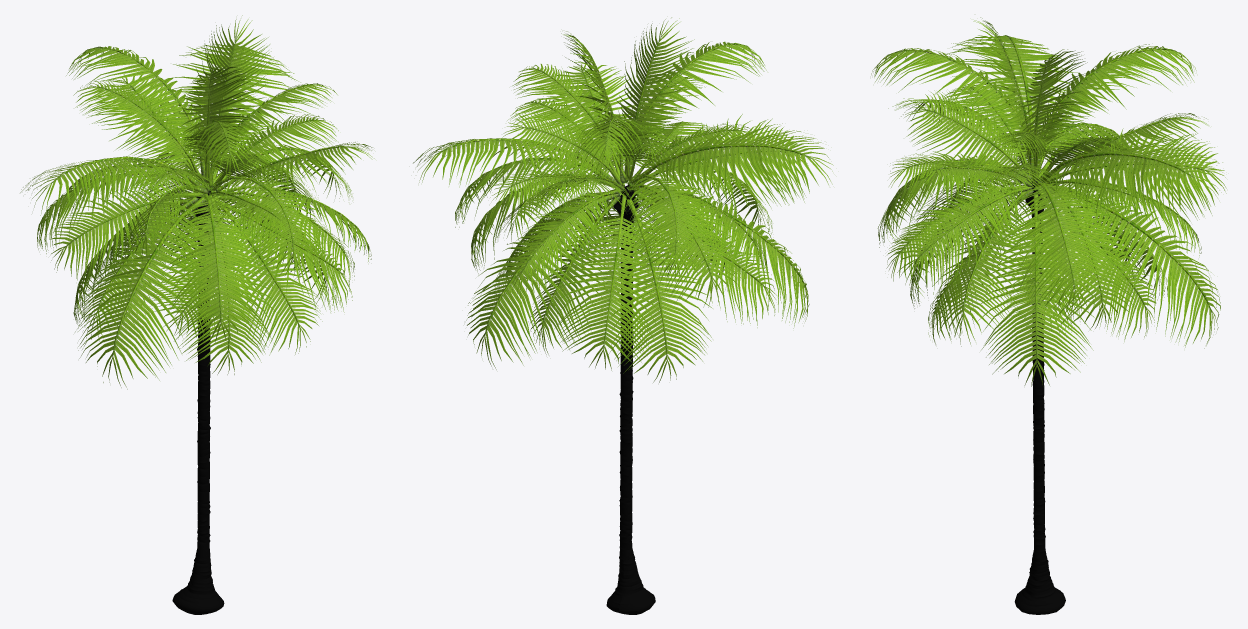
Rendered from Palm N161213.fbx.
3 renders of one model, left to right at view 1: azimuth 30°, elevation 25°; view 2: azimuth 150°, elevation 25°; view 3: azimuth 270°, elevation 25°, orthographic. The views are drawn at different scales.
Parts seen in each view (by area): view 1: objArch310, objArch31_; view 2: objArch310, objArch31_; view 3: objArch310, objArch31_.
Boxes of the visible parts, x1=… form: objArch310: x1=20, y1=15, x2=374, y2=389; objArch31_: x1=172, y1=191, x2=224, y2=614; objArch310: x1=413, y1=17, x2=833, y2=382; objArch31_: x1=606, y1=185, x2=655, y2=614; objArch310: x1=871, y1=17, x2=1226, y2=386; objArch31_: x1=1014, y1=181, x2=1065, y2=614.
Bounding box in the file's own units: 250 × 397 × 224.
